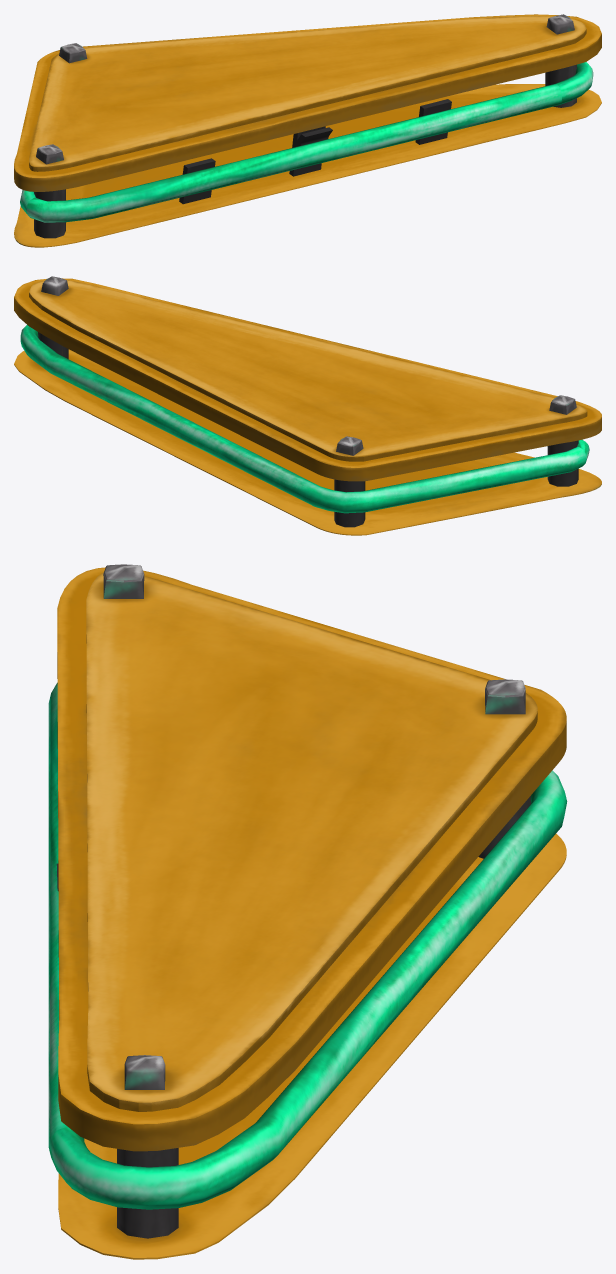
The model's file is Sling_Shot_Left.fbx.
The picture shows the model from 3 angles, top to bottom: view 1: azimuth 30°, elevation 25°; view 2: azimuth 150°, elevation 25°; view 3: azimuth 270°, elevation 25°; orthographic projection. The views are drawn at different scales.
Parts seen in each view (by area): view 1: Line002; view 2: Line002; view 3: Line002.
Part boxes in pixels (<box>): Line002: <box>14,14,601,247</box>; Line002: <box>14,276,601,535</box>; Line002: <box>48,564,567,1259</box>.
Size of the model in its own units: 23.77 by 3.34 by 9.35.
Materials: 1 (1 with a texture image).
